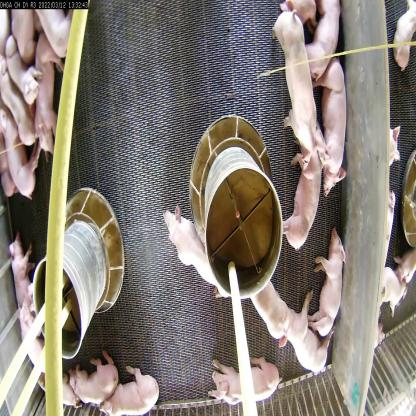Pig: (263, 11, 328, 176), (272, 136, 329, 249), (162, 196, 220, 306), (312, 227, 356, 348), (306, 68, 347, 196), (244, 256, 303, 341), (212, 348, 282, 415), (31, 26, 66, 156), (0, 55, 37, 176), (283, 296, 337, 376), (13, 246, 42, 371), (303, 0, 346, 81), (5, 36, 42, 128), (0, 114, 33, 207), (102, 365, 159, 416), (64, 352, 119, 404)
